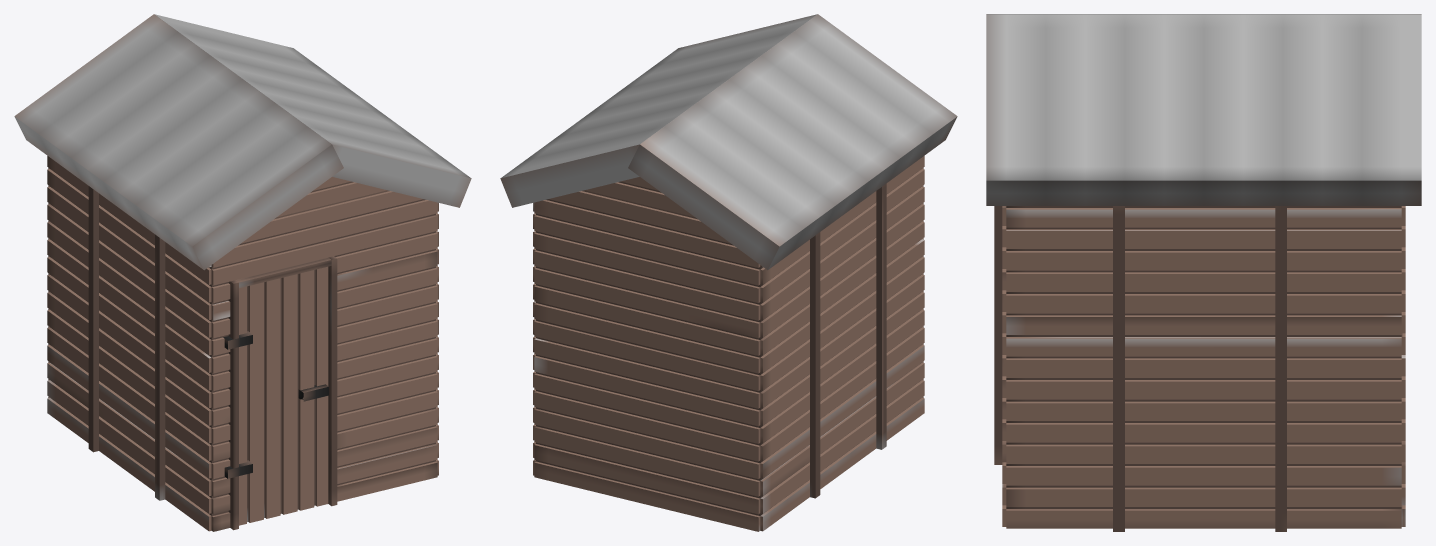
File: shed.fbx
3 views of the same model, side by side, from view 1: azimuth 30°, elevation 25°; view 2: azimuth 150°, elevation 25°; view 3: azimuth 270°, elevation 25° (orthographic). The views are drawn at different scales.
Parts seen in each view (by area): view 1: cube_84, cube_83, cube, cube_100, cube_32, cube_97, cube_98, cube_96, cube_33, cube_99, cube_92, cube_91 (+35 smaller); view 2: cube_84, cube_83, cube, cube_15, cube_1, cube_8, cube_13, cube_3, cube_12, cube_4, cube_5, cube_11 (+26 smaller); view 3: cube_83, cube, cube_68, cube_69, cube_70, cube_71, cube_72, cube_73, cube_74, cube_75, cube_76, cube_77 (+8 smaller).
Part boxes in pixels (left/top/right/bottom): cube_84: left=14, top=14, right=343, bottom=270; cube_83: left=154, top=14, right=471, bottom=207; cube: left=50, top=169, right=435, bottom=521; cube_100: left=298, top=270, right=314, bottom=510; cube_32: left=211, top=215, right=437, bottom=285; cube_97: left=282, top=274, right=297, bottom=514; cube_98: left=265, top=278, right=280, bottom=518; cube_96: left=248, top=282, right=263, bottom=522; cube_33: left=211, top=200, right=437, bottom=267; cube_99: left=315, top=266, right=328, bottom=506; cube_92: left=88, top=186, right=98, bottom=452; cube_91: left=155, top=234, right=165, bottom=500; cube_84: left=628, top=14, right=957, bottom=270; cube_83: left=500, top=14, right=817, bottom=207; cube: left=536, top=169, right=921, bottom=515; cube_15: left=534, top=285, right=760, bottom=355; cube_1: left=534, top=461, right=760, bottom=531; cube_8: left=534, top=373, right=760, bottom=443; cube_13: left=534, top=320, right=760, bottom=390; cube_3: left=534, top=408, right=760, bottom=478; cube_12: left=534, top=232, right=760, bottom=302; cube_4: left=534, top=426, right=760, bottom=496; cube_5: left=534, top=338, right=760, bottom=408; cube_11: left=534, top=250, right=760, bottom=320; cube_83: left=986, top=14, right=1421, bottom=205; cube: left=1006, top=206, right=1401, bottom=508; cube_68: left=1006, top=208, right=1401, bottom=227; cube_69: left=1006, top=251, right=1401, bottom=270; cube_70: left=1006, top=229, right=1401, bottom=248; cube_71: left=1006, top=337, right=1401, bottom=356; cube_72: left=1006, top=315, right=1401, bottom=334; cube_73: left=1006, top=294, right=1401, bottom=313; cube_74: left=1006, top=272, right=1401, bottom=291; cube_75: left=1006, top=358, right=1401, bottom=377; cube_76: left=1006, top=380, right=1401, bottom=399; cube_77: left=1006, top=423, right=1401, bottom=442.
Size of the model in its own units: 62.28 by 77.78 by 68.76.
Materials: 1 (1 with a texture image).
